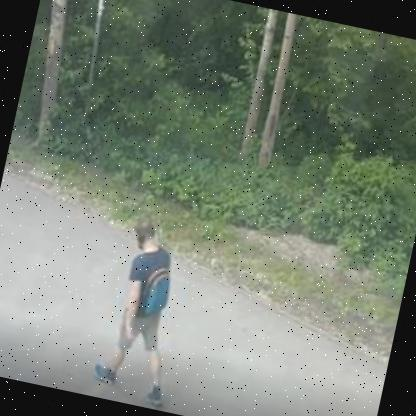person: (78, 207, 202, 408)
